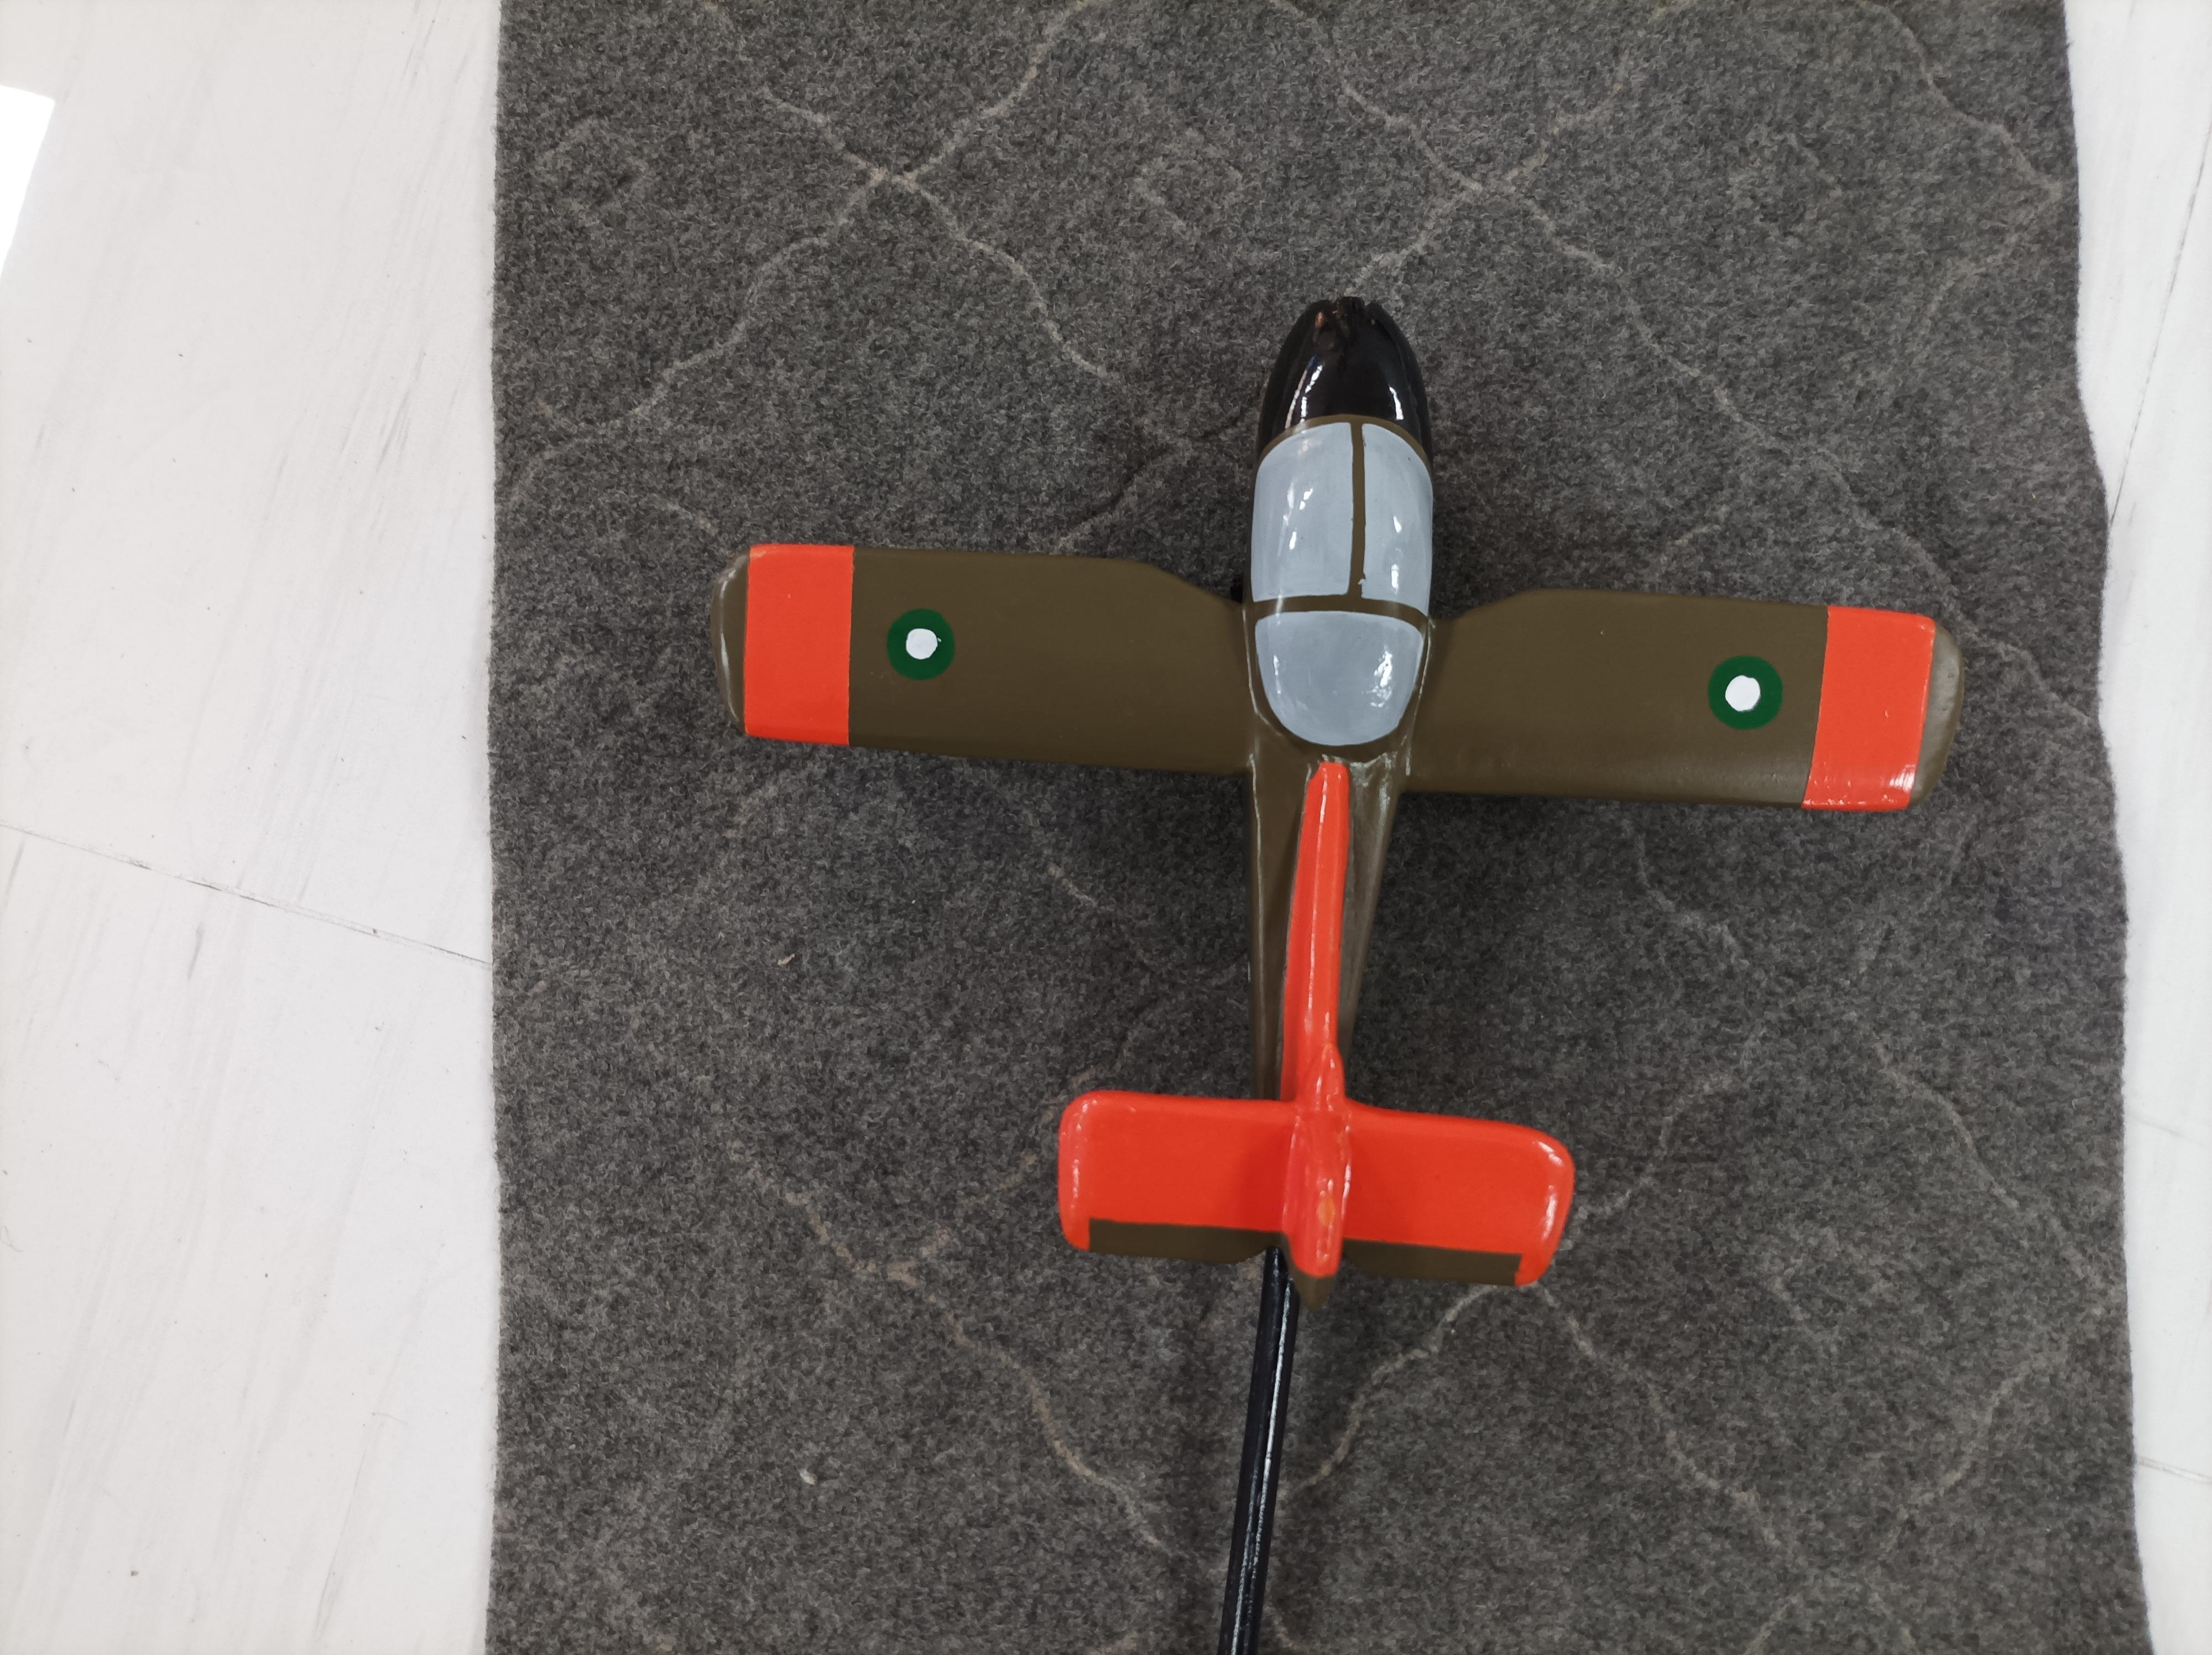Airplane: (669, 252, 1999, 1316)
